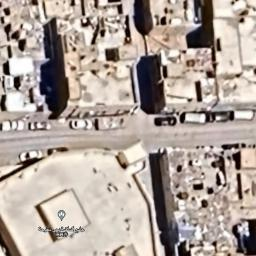pickup: (0, 118, 28, 133)
sedan: (18, 147, 46, 163), (69, 116, 95, 132), (27, 119, 55, 131), (154, 115, 178, 128)
